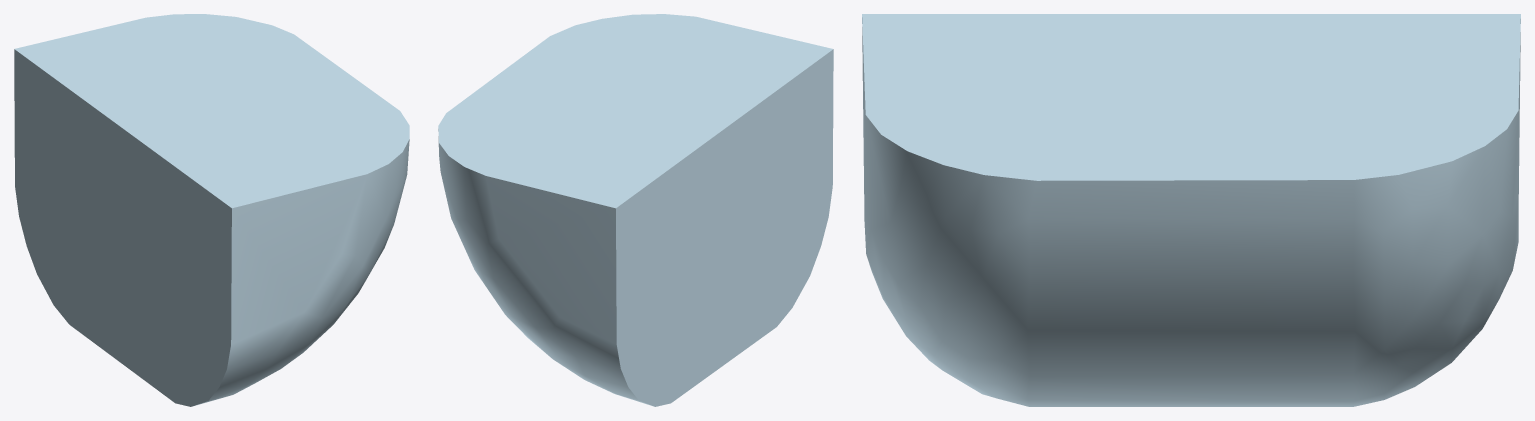
The model's file is LegacyCorner.fbx.
3 views of the same model, side by side, from view 1: azimuth 30°, elevation 25°; view 2: azimuth 150°, elevation 25°; view 3: azimuth 270°, elevation 25° (orthographic). The views are drawn at different scales.
Parts seen in each view (by area): view 1: Part 1; view 2: Part 1; view 3: Part 1.
Part boxes in pixels (x1,y1,x2,y2): Part 1: [14, 14, 409, 406]; Part 1: [438, 14, 833, 406]; Part 1: [862, 14, 1520, 406].
Bounding box in the file's own units: 7.61 × 7.61 × 12.7.
